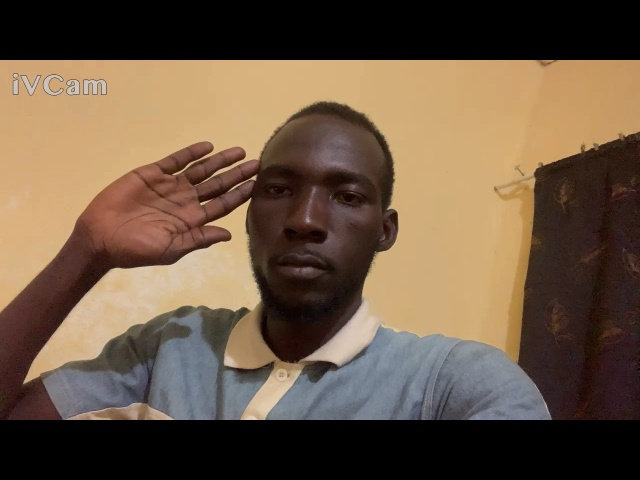bonjour: (70, 131, 263, 281)
